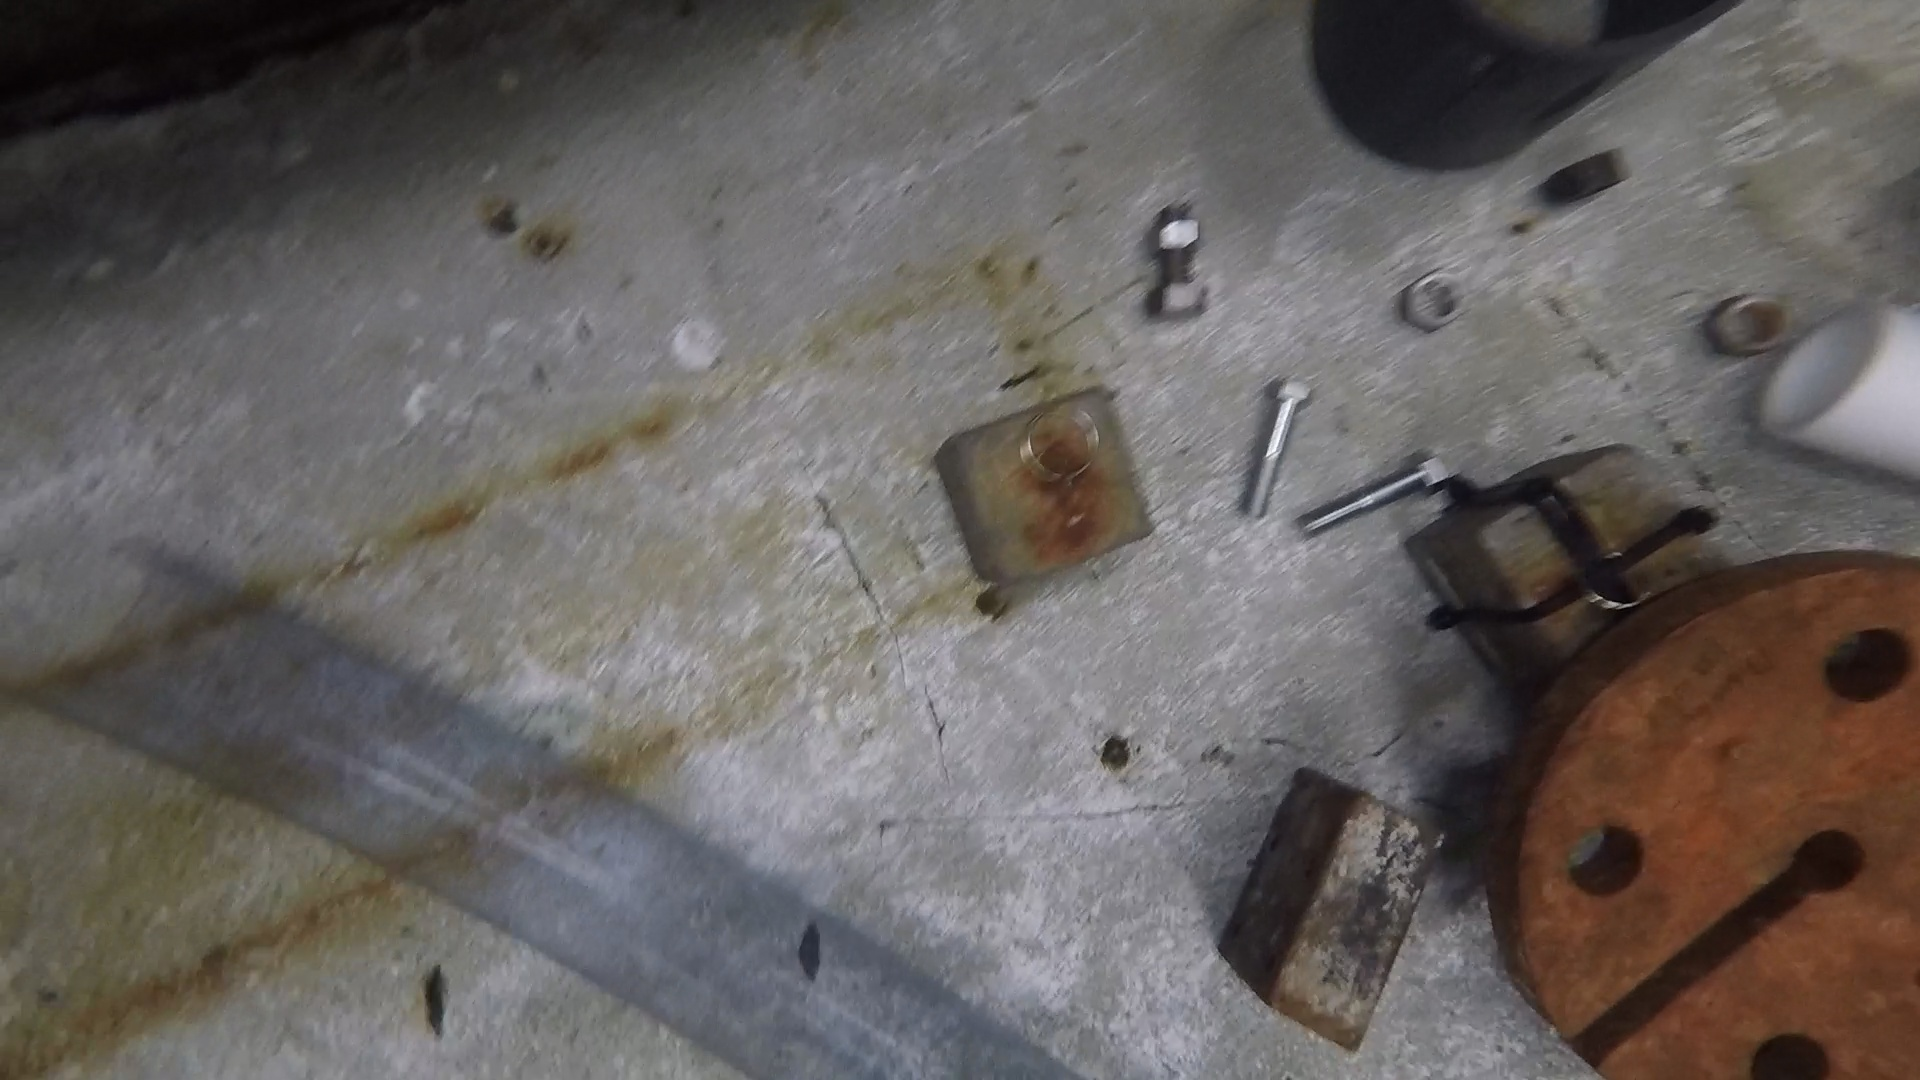bolt: (1298, 447, 1449, 533), (1244, 367, 1311, 521), (1149, 204, 1207, 319)
flange: (1484, 550, 1917, 1080)
led_block: (1408, 442, 1730, 696), (1218, 767, 1447, 1056), (935, 384, 1154, 584)
nut: (1706, 294, 1795, 356), (1549, 146, 1631, 200), (1400, 268, 1472, 330), (1145, 219, 1209, 251)
pipe: (3, 537, 1089, 1080), (1312, 1, 1745, 171), (1759, 299, 1920, 477)
